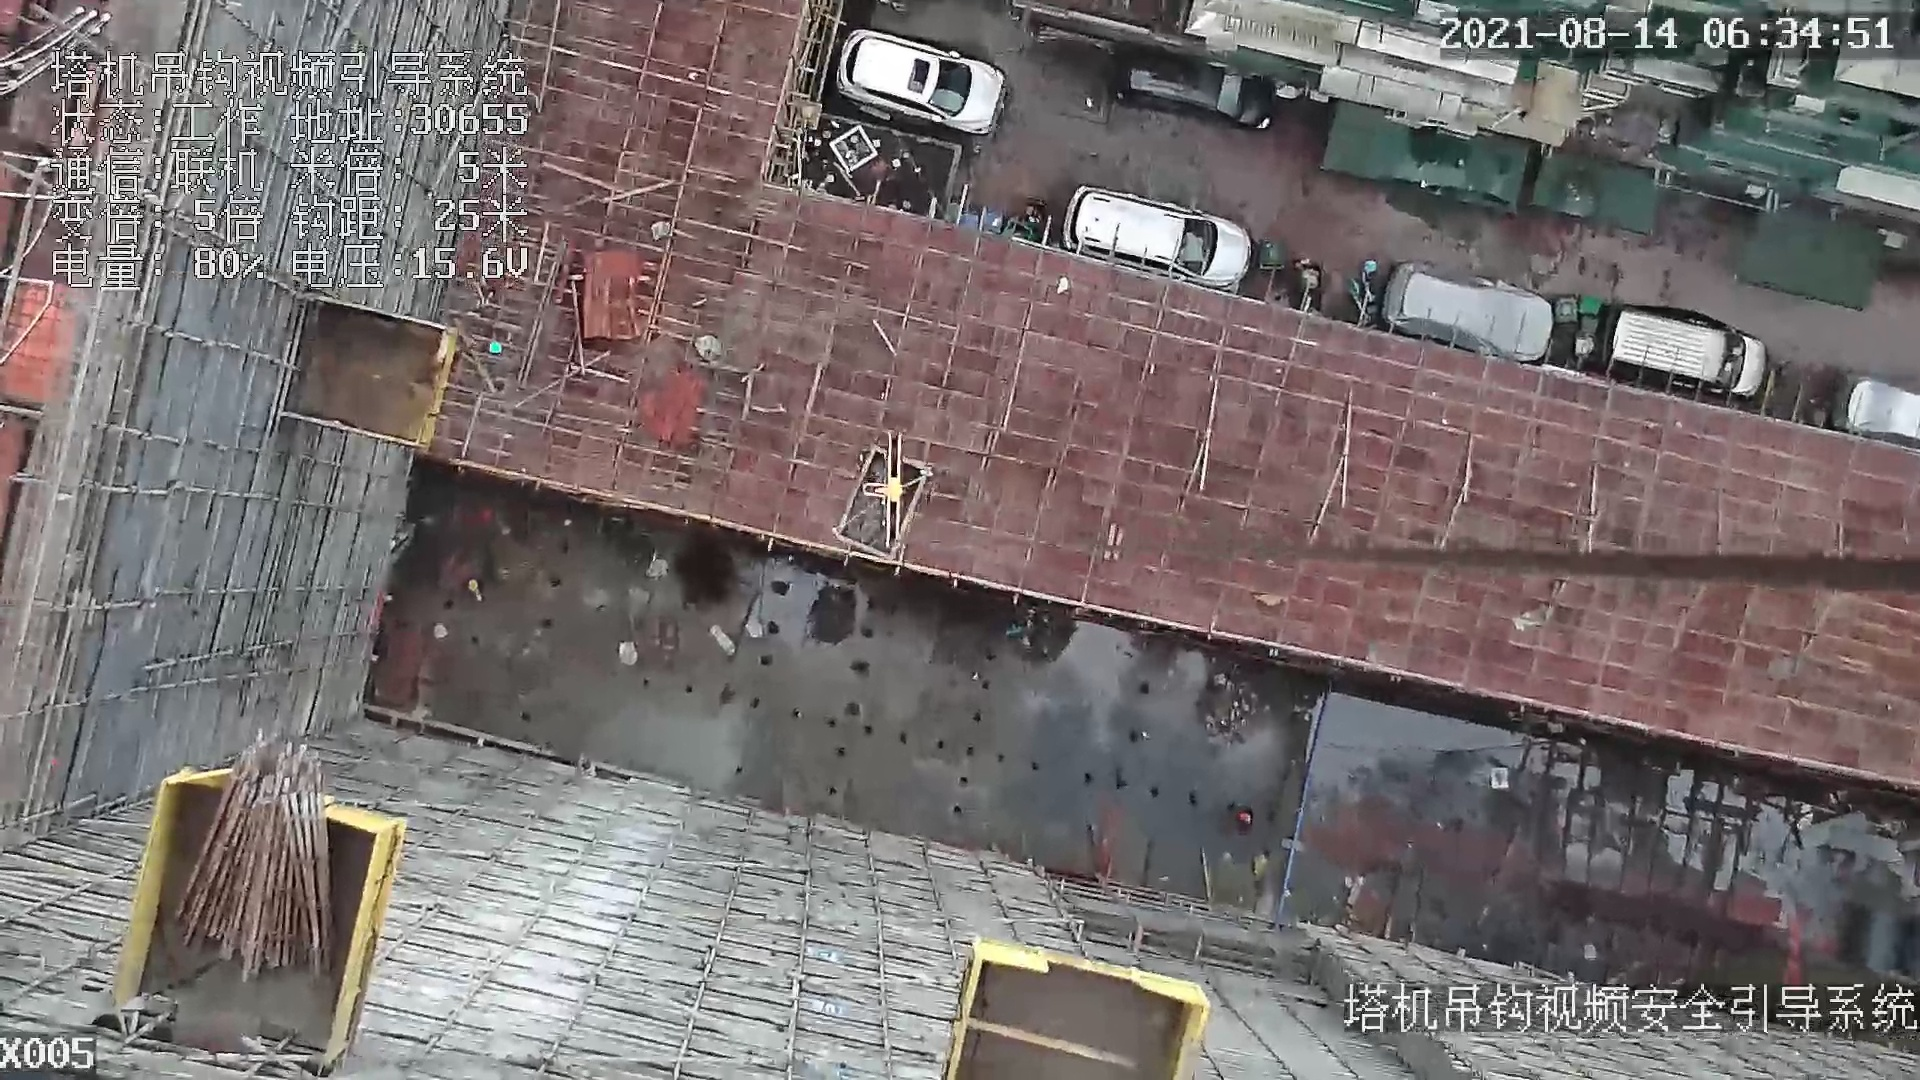hook: (862, 431, 899, 554)
hopper: (827, 450, 942, 574)
scaffold: (199, 740, 345, 986)
